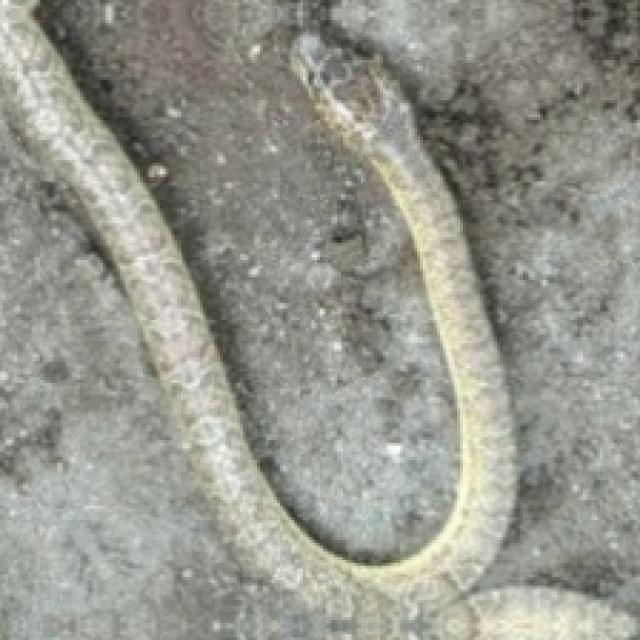mullers wolf snake: (0, 126, 297, 637), (426, 23, 637, 597)
